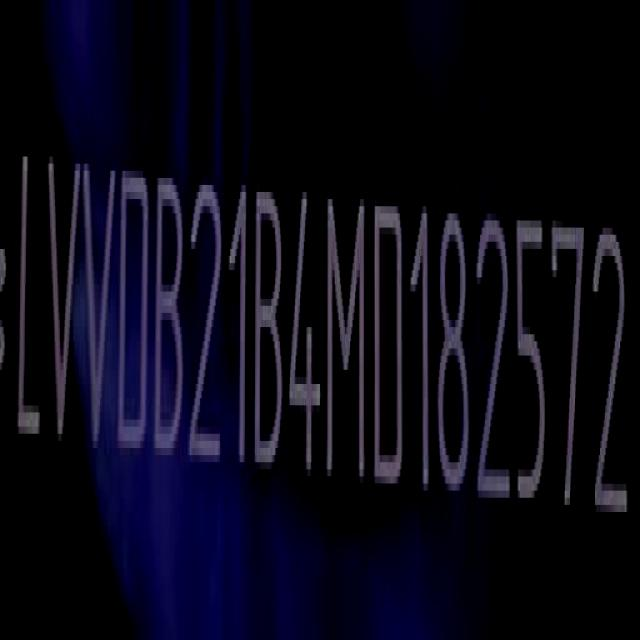1: (410, 198, 434, 495), (228, 163, 250, 482)
2: (473, 206, 513, 514), (591, 216, 631, 521), (189, 176, 223, 479)
4: (287, 179, 322, 487)
5: (513, 208, 549, 508)
7: (550, 206, 586, 516)
8: (437, 195, 471, 495)
B: (253, 184, 285, 474), (153, 177, 185, 466)
D: (372, 190, 406, 503), (118, 164, 150, 464)
L: (14, 124, 43, 458)
M: (325, 177, 367, 488)
V: (46, 148, 83, 472), (80, 140, 116, 472)
